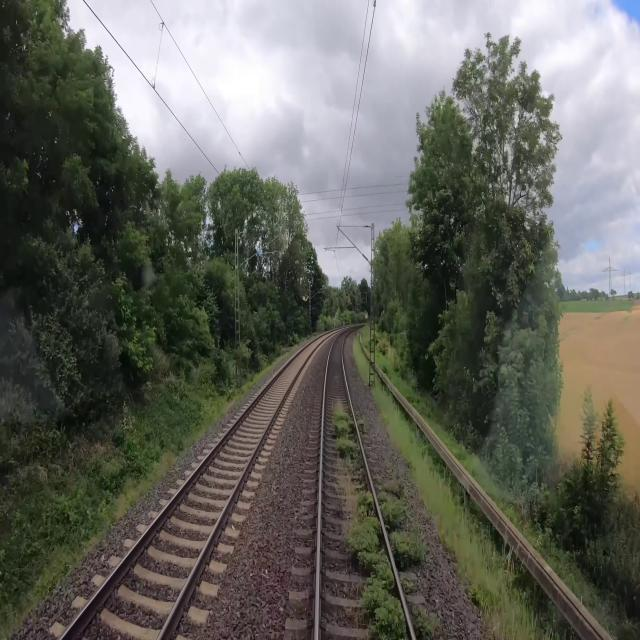Plant: (333, 399, 409, 639), (390, 522, 430, 564), (376, 480, 411, 524), (412, 601, 436, 638), (400, 577, 415, 591), (357, 419, 366, 433)
